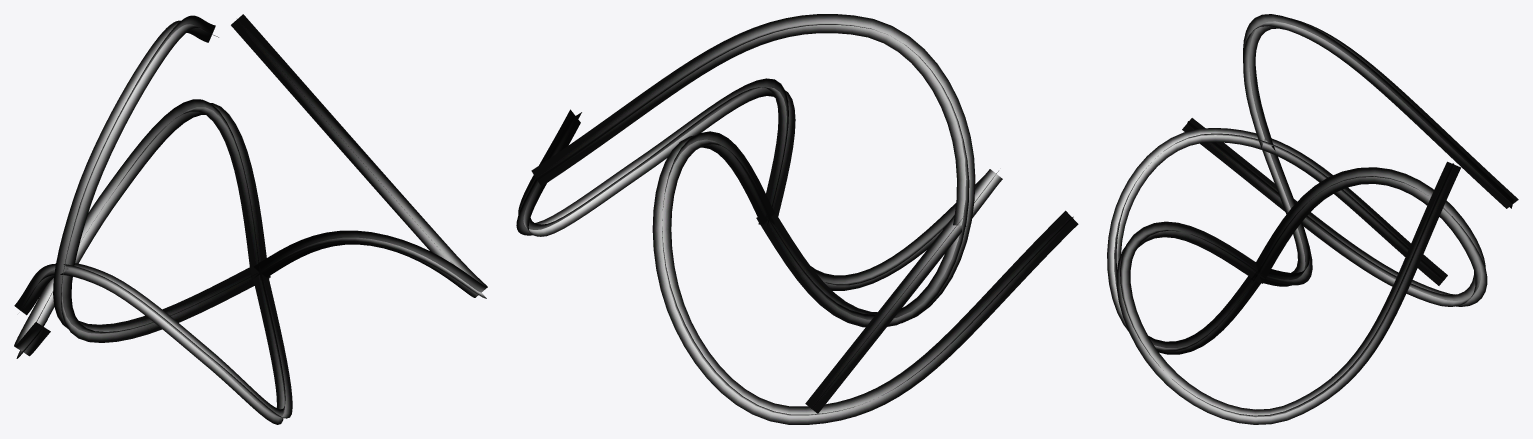
The model's file is vfx_kurp_0628.dae.
3 views of the same model, side by side, from view 1: azimuth 30°, elevation 25°; view 2: azimuth 150°, elevation 25°; view 3: azimuth 270°, elevation 25° (orthographic). The views are drawn at different scales.
Parts seen in each view (by area): view 1: vfx_kurp_0628; view 2: vfx_kurp_0628; view 3: vfx_kurp_0628.
Boxes of the visible parts, x1,y1,x2,y2 form: vfx_kurp_0628: (14,14,487,424); vfx_kurp_0628: (516,14,1078,424); vfx_kurp_0628: (1107,14,1518,424).
Bounding box in the file's own units: 14.48 × 11.71 × 9.75.
1 material, 1 textured.
